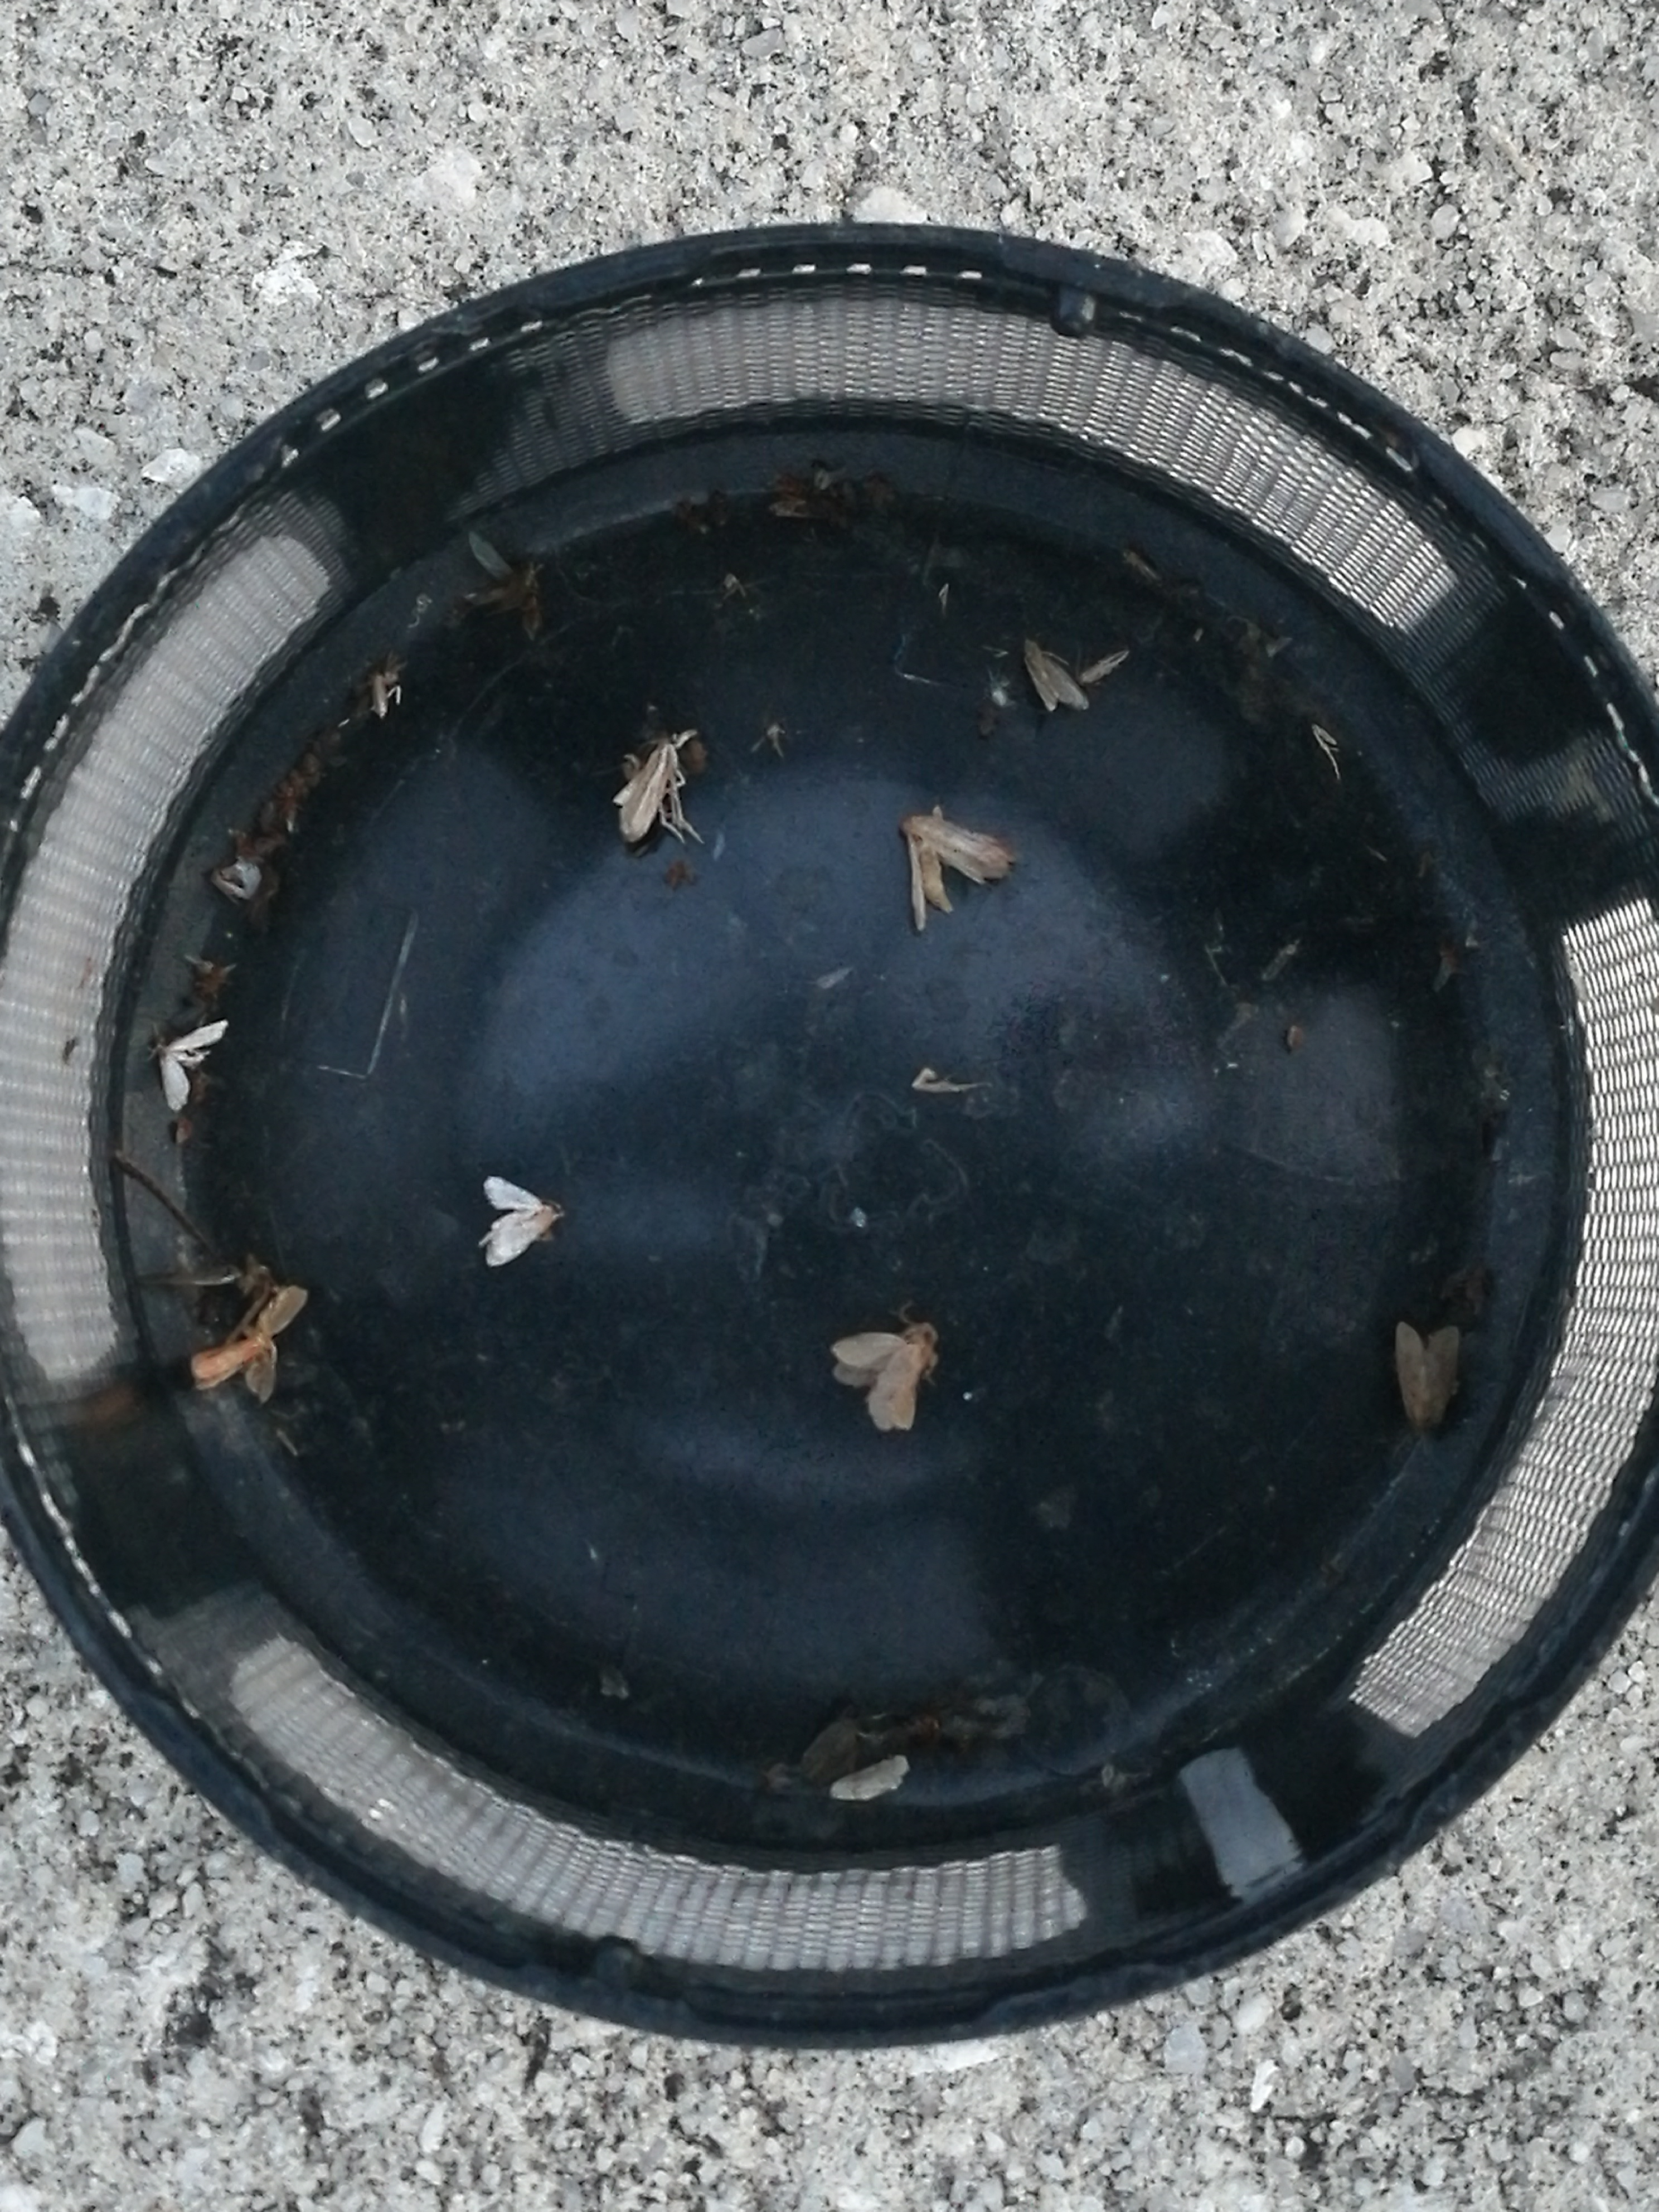mosquito: (620, 742, 676, 843)
moth: (903, 815, 1006, 932), (833, 1324, 938, 1426), (486, 1177, 561, 1270), (1396, 1324, 1459, 1433), (157, 1019, 228, 1111), (1025, 643, 1086, 712)
